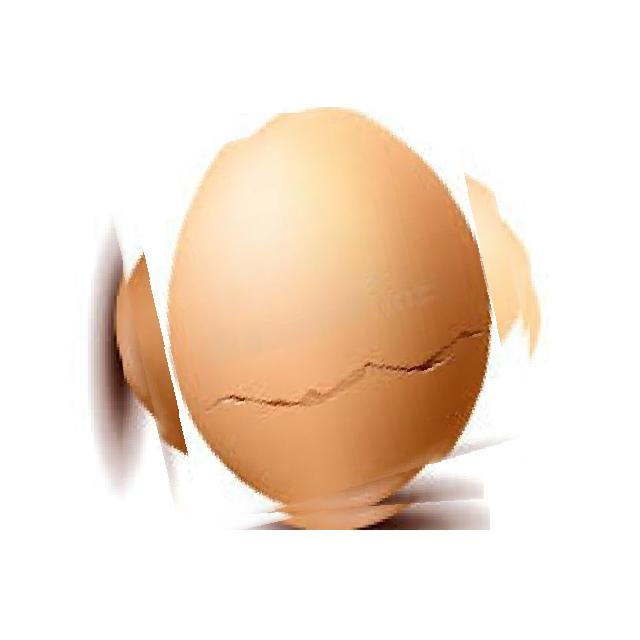biodegradable: (123, 113, 534, 523)
